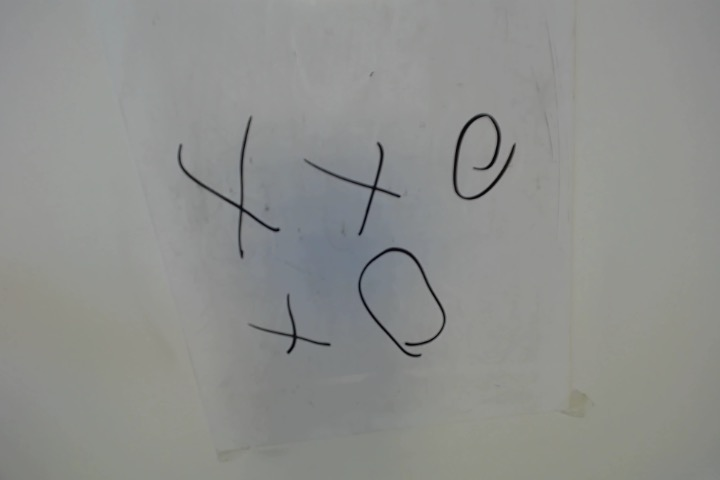0: (351, 244, 448, 362), (448, 110, 520, 205)
x: (173, 121, 289, 258), (303, 141, 405, 235), (246, 289, 331, 370)
